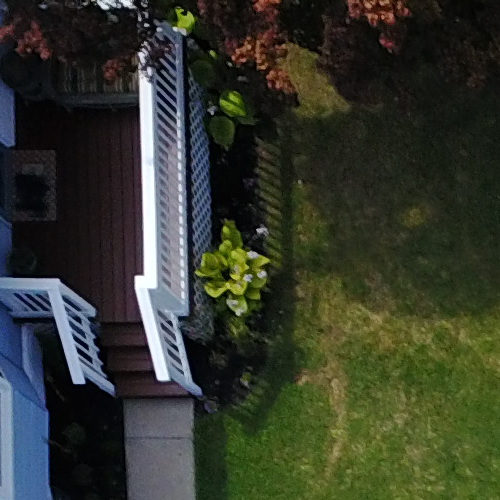porch: (1, 1, 292, 389)
